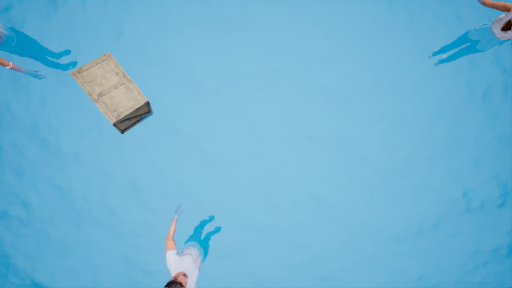person: (151, 199, 216, 288)
